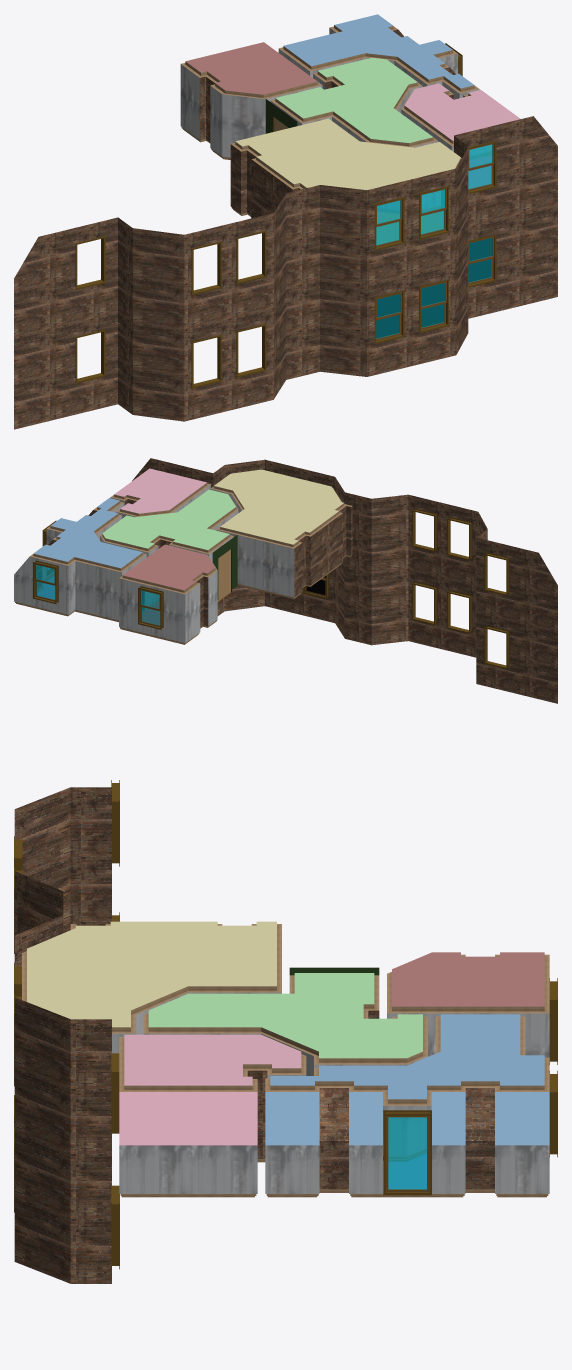
The model's file is level_05.fbx.
3 renders of one model, top to bottom at view 1: azimuth 30°, elevation 25°; view 2: azimuth 150°, elevation 25°; view 3: azimuth 270°, elevation 25°, orthographic. The views are drawn at different scales.
Visible parts, largest first — view 1: Plane.000, Plane.028, Plane.021, Plane.008, Plane.011, Plane.027, Plane.002, Plane.001, Plane.006, Plane.029, Plane.023, Plane.020 (+1 smaller); view 2: Plane.000, Plane.015, Plane.016, Plane.017, Plane.025, Plane.019, Plane.014, Plane.013; view 3: Plane.000, Plane.024, Plane.022.
Part boxes in pixels (x1=…): Plane.000: x1=14, y1=14, x2=557, y2=429; Plane.028: x1=376, y1=292, x2=402, y2=319; Plane.021: x1=468, y1=236, x2=494, y2=263; Plane.008: x1=468, y1=143, x2=494, y2=170; Plane.011: x1=376, y1=199, x2=402, y2=226; Plane.027: x1=421, y1=281, x2=446, y2=308; Plane.002: x1=421, y1=188, x2=446, y2=215; Plane.001: x1=468, y1=164, x2=493, y2=191; Plane.006: x1=376, y1=220, x2=401, y2=247; Plane.029: x1=376, y1=313, x2=401, y2=340; Plane.023: x1=468, y1=258, x2=493, y2=284; Plane.020: x1=421, y1=209, x2=445, y2=236; Plane.000: x1=14, y1=458, x2=557, y2=703; Plane.015: x1=217, y1=549, x2=230, y2=601; Plane.016: x1=33, y1=560, x2=58, y2=604; Plane.017: x1=138, y1=586, x2=163, y2=629; Plane.025: x1=139, y1=589, x2=160, y2=610; Plane.019: x1=34, y1=564, x2=55, y2=584; Plane.014: x1=35, y1=580, x2=55, y2=601; Plane.013: x1=140, y1=606, x2=160, y2=626; Plane.000: x1=14, y1=780, x2=549, y2=1283; Plane.024: x1=385, y1=1116, x2=429, y2=1192; Plane.022: x1=383, y1=1110, x2=431, y2=1195.
Size of what is drawn, in the model's own units: 18.3 by 11.18 by 6.
